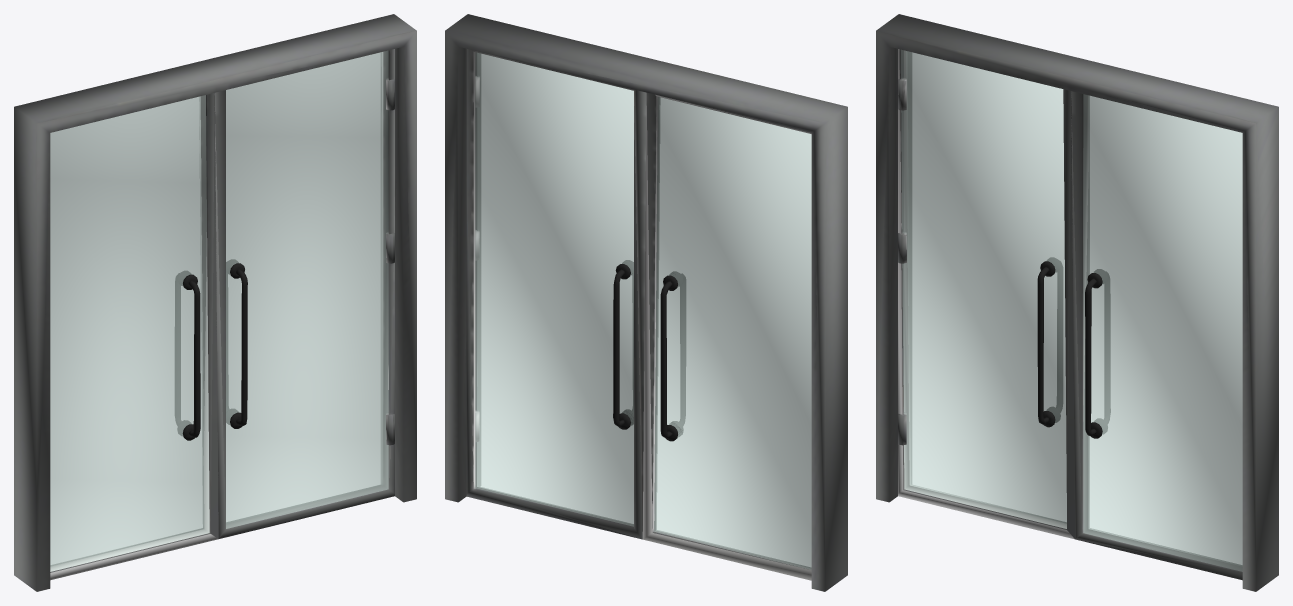
File: ENV_doubleglassdoor.fbx
3 views of the same model, side by side, from view 1: azimuth 30°, elevation 25°; view 2: azimuth 150°, elevation 25°; view 3: azimuth 330°, elevation 25° (orthographic).
Parts seen in each view (by area): view 1: tripo_node_ffed7f75-efcd-4b8b-a918-dfe6f03a2e71.002, tripo_node_ffed7f75-efcd-4b8b-a918-dfe6f03a2e71.001, tripo_node_ffed7f75-efcd-4b8b-a918-dfe6f03a2e71; view 2: tripo_node_ffed7f75-efcd-4b8b-a918-dfe6f03a2e71.002, tripo_node_ffed7f75-efcd-4b8b-a918-dfe6f03a2e71.001, tripo_node_ffed7f75-efcd-4b8b-a918-dfe6f03a2e71; view 3: tripo_node_ffed7f75-efcd-4b8b-a918-dfe6f03a2e71.001, tripo_node_ffed7f75-efcd-4b8b-a918-dfe6f03a2e71.002, tripo_node_ffed7f75-efcd-4b8b-a918-dfe6f03a2e71.
Part boxes in pixels (x1,y1,x2,y2): tripo_node_ffed7f75-efcd-4b8b-a918-dfe6f03a2e71.002: [214, 49, 394, 538]; tripo_node_ffed7f75-efcd-4b8b-a918-dfe6f03a2e71.001: [50, 93, 218, 580]; tripo_node_ffed7f75-efcd-4b8b-a918-dfe6f03a2e71: [14, 14, 416, 591]; tripo_node_ffed7f75-efcd-4b8b-a918-dfe6f03a2e71.002: [466, 49, 646, 539]; tripo_node_ffed7f75-efcd-4b8b-a918-dfe6f03a2e71.001: [642, 92, 811, 580]; tripo_node_ffed7f75-efcd-4b8b-a918-dfe6f03a2e71: [445, 14, 847, 591]; tripo_node_ffed7f75-efcd-4b8b-a918-dfe6f03a2e71.001: [898, 49, 1074, 539]; tripo_node_ffed7f75-efcd-4b8b-a918-dfe6f03a2e71.002: [1071, 91, 1242, 580]; tripo_node_ffed7f75-efcd-4b8b-a918-dfe6f03a2e71: [876, 14, 1278, 591].
Bounding box in the file's own units: 217 × 255 × 22.47.
3 materials, 1 textured.
